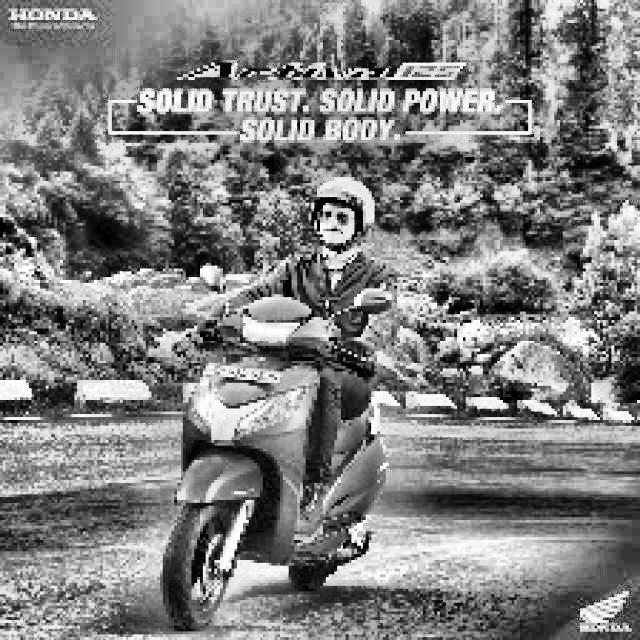motorcycle: (132, 245, 435, 624)
